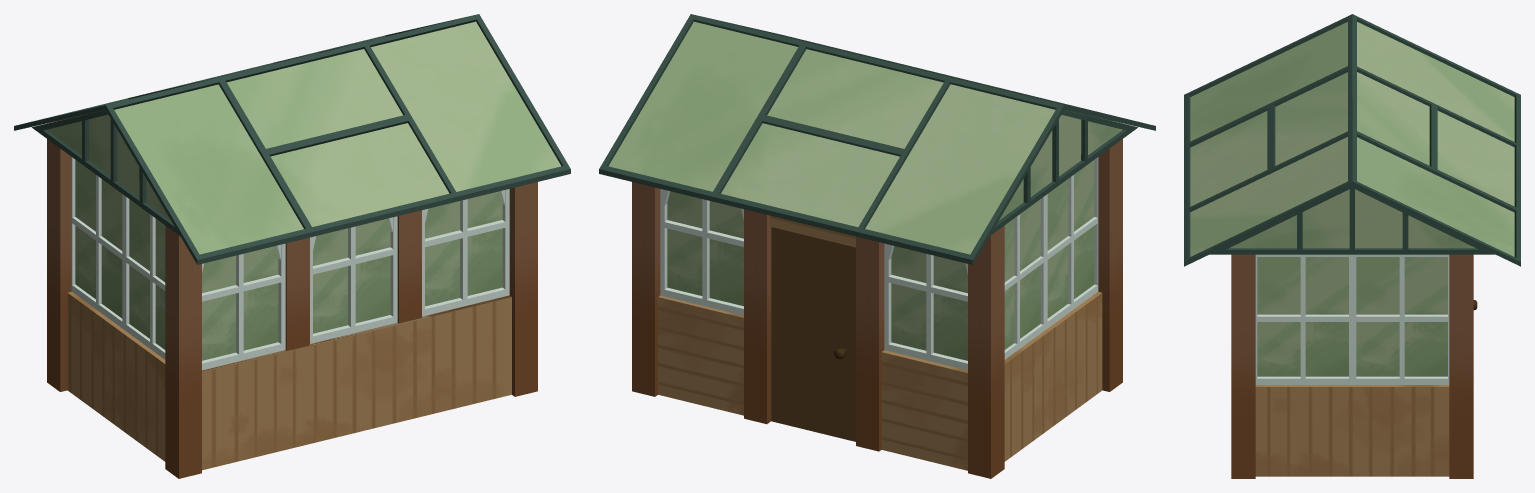
Rendered from Shed .fbx.
3 renders of one model, left to right at view 1: azimuth 30°, elevation 25°; view 2: azimuth 150°, elevation 25°; view 3: azimuth 270°, elevation 25°, orthographic. The views are drawn at different scales.
Parts seen in each view (by area): view 1: shed_door.001; view 2: shed_door.001; view 3: shed_door.001.
Part boxes in pixels (x1,y1,x2,y2): shed_door.001: (14, 14, 570, 478); shed_door.001: (599, 14, 1155, 478); shed_door.001: (1184, 14, 1520, 478).
Bounding box in the file's own units: 400 × 335 × 340.
